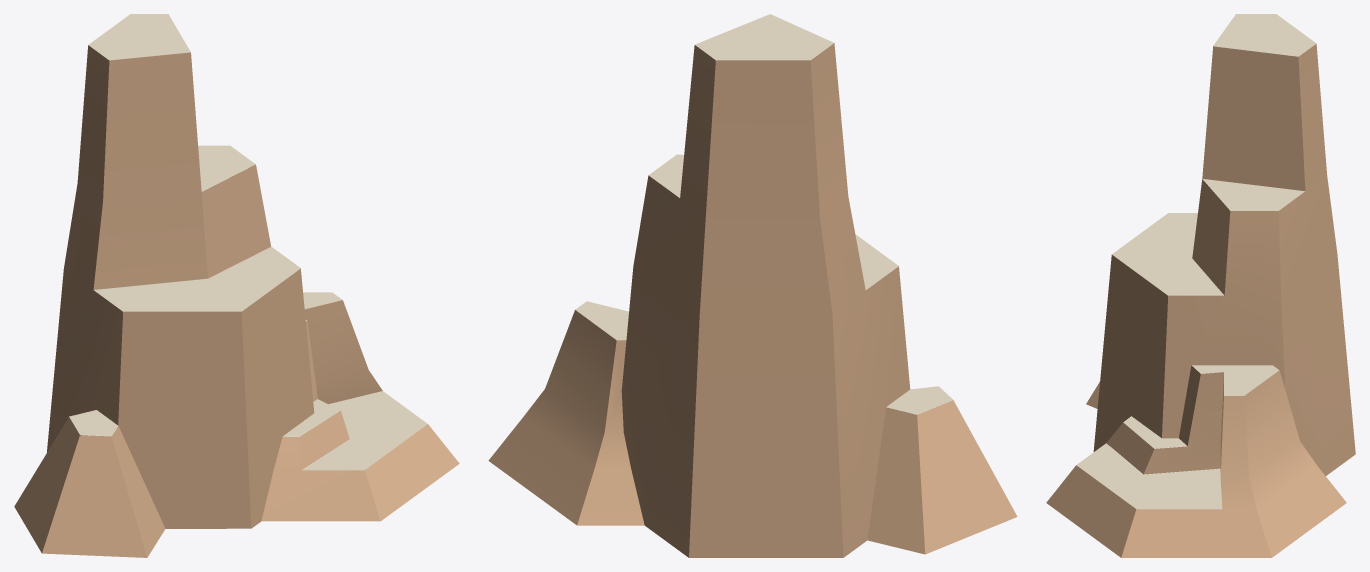
File: formation-large-rock.glb
3 views of the same model, side by side, from view 1: azimuth 30°, elevation 25°; view 2: azimuth 150°, elevation 25°; view 3: azimuth 270°, elevation 25° (orthographic). The views are drawn at different scales.
Parts seen in each view (by area): view 1: formationLarge_rock; view 2: formationLarge_rock; view 3: formationLarge_rock.
Part boxes in pixels (x1,y1,x2,y2): formationLarge_rock: [14, 14, 459, 557]; formationLarge_rock: [488, 14, 1017, 557]; formationLarge_rock: [1046, 14, 1355, 557].
Size of the model in its own units: 1.36 by 1.38 by 0.9466.
